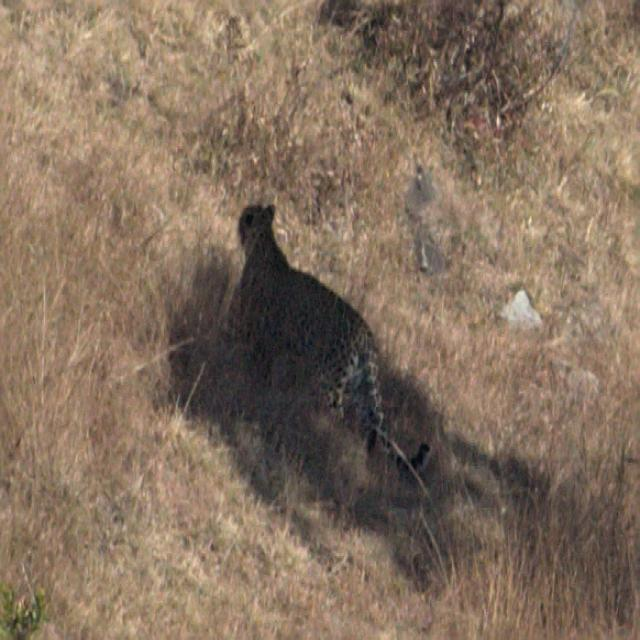Leopard: (230, 202, 433, 471)
